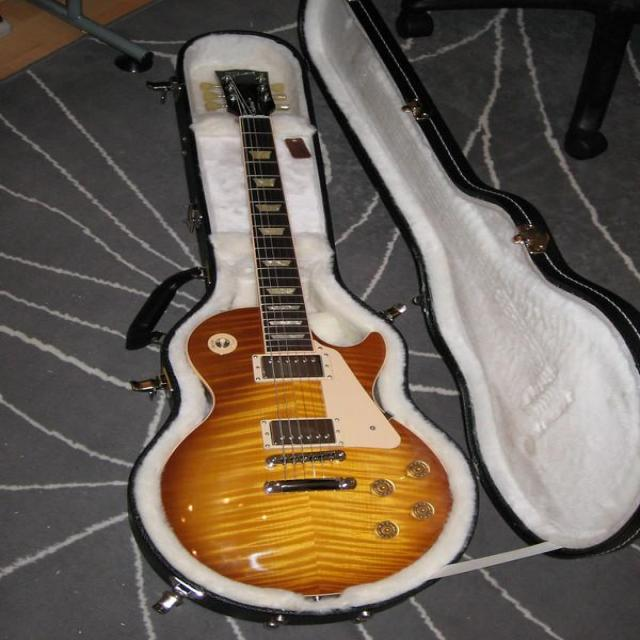guitar: (162, 70, 451, 595)
